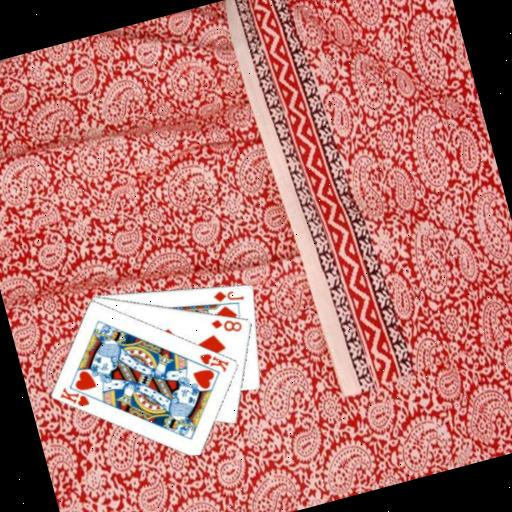8D: (206, 310, 244, 340)
JD: (209, 282, 246, 309)
KH: (195, 345, 232, 379), (55, 378, 92, 412)
